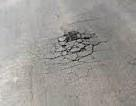pothole: (48, 25, 106, 75)
